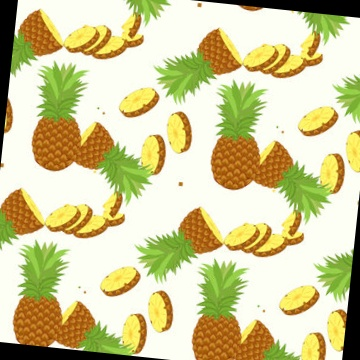Pineapple: (211, 79, 263, 191), (32, 59, 83, 168)
